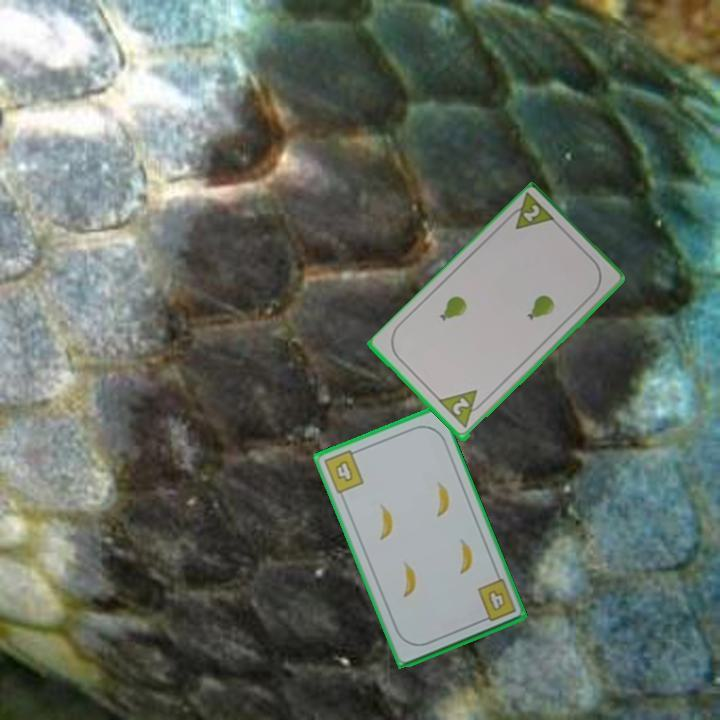2p: (502, 190, 559, 233), (436, 386, 489, 431)
4b: (320, 446, 367, 497), (473, 575, 519, 625)
